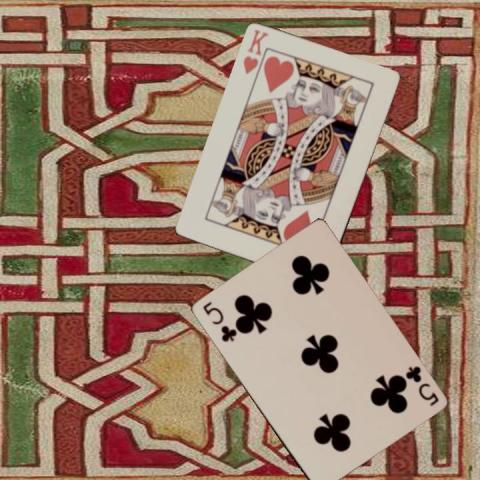5c: (199, 298, 237, 343), (402, 363, 440, 407)
Kh: (240, 27, 270, 76)
